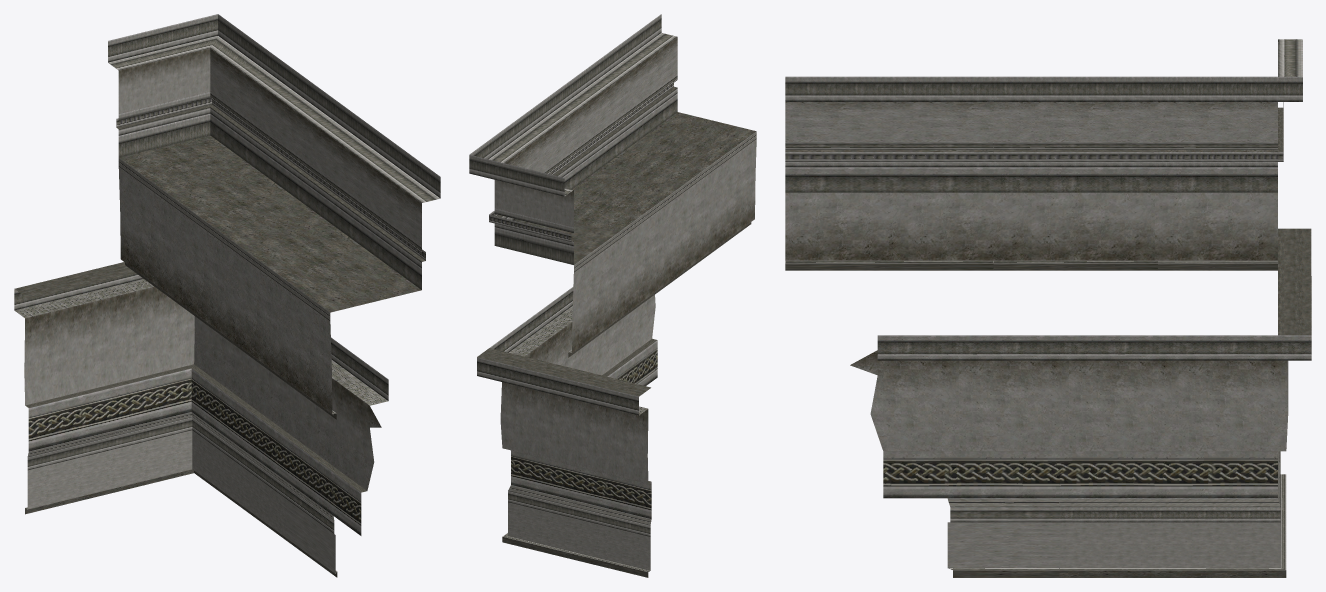
File: DWARF_PALACE_FORGE_WALL01A01.fbx
3 views of the same model, side by side, from view 1: azimuth 30°, elevation 25°; view 2: azimuth 150°, elevation 25°; view 3: azimuth 270°, elevation 25° (orthographic). The views are drawn at different scales.
Visible parts, largest first — view 1: DWARF_PALACE_FORGE_WALL01A01; view 2: DWARF_PALACE_FORGE_WALL01A01; view 3: DWARF_PALACE_FORGE_WALL01A01.
Boxes of the visible parts, x1,y1,x2,y2 form: DWARF_PALACE_FORGE_WALL01A01: (14,14,440,577); DWARF_PALACE_FORGE_WALL01A01: (469,14,756,577); DWARF_PALACE_FORGE_WALL01A01: (785,39,1311,577).
Size of the model in its own units: 96254 by 205000 by 188277.
Materials: 8 (8 with a texture image).
